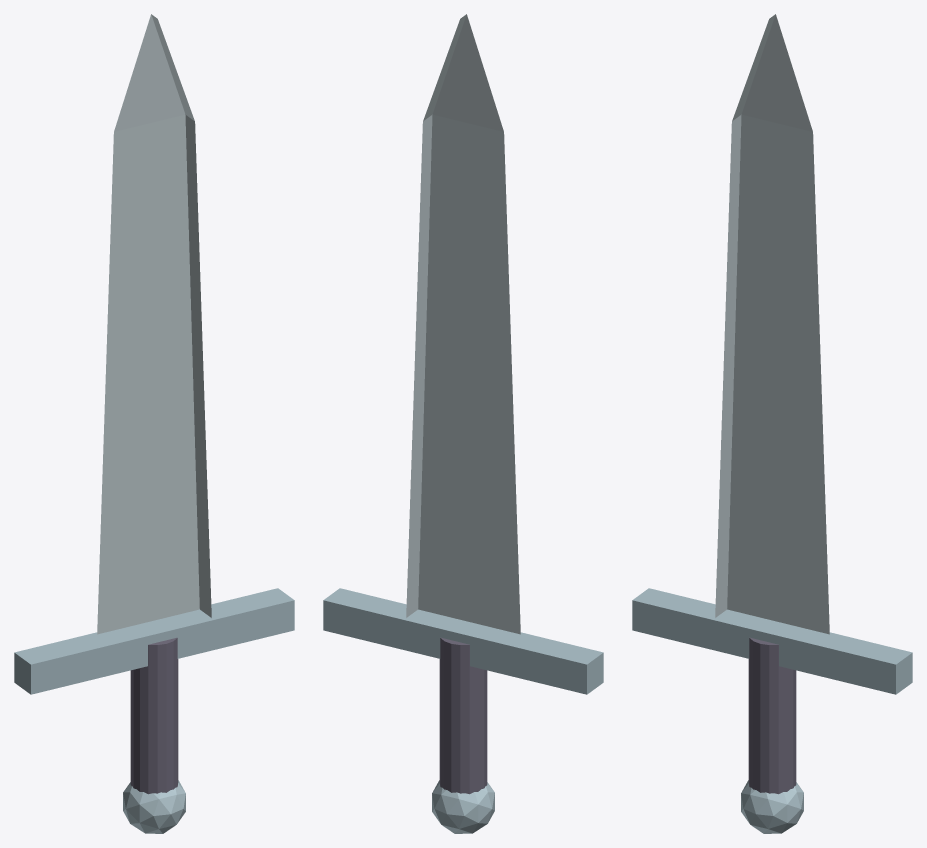
File: mithril_broadsword.glb
3 views of the same model, side by side, from view 1: azimuth 30°, elevation 25°; view 2: azimuth 150°, elevation 25°; view 3: azimuth 330°, elevation 25° (orthographic).
Parts seen in each view (by area): view 1: sword_0_0, sword_0_1, sword_0_2, sword_0_3; view 2: sword_0_0, sword_0_1, sword_0_2, sword_0_3; view 3: sword_0_0, sword_0_1, sword_0_2, sword_0_3.
Boxes of the visible parts, <box> form: sword_0_0: <box>97,14,211,634</box>; sword_0_1: <box>14,588,294,694</box>; sword_0_2: <box>130,637,178,794</box>; sword_0_3: <box>123,780,185,833</box>; sword_0_0: <box>406,14,520,634</box>; sword_0_1: <box>323,588,603,694</box>; sword_0_2: <box>439,637,487,794</box>; sword_0_3: <box>432,780,494,833</box>; sword_0_0: <box>715,14,829,634</box>; sword_0_1: <box>632,588,912,694</box>; sword_0_2: <box>748,637,796,794</box>; sword_0_3: <box>741,780,803,833</box>.
Size of the model in its own units: 1.65 by 4.87 by 0.3579.
